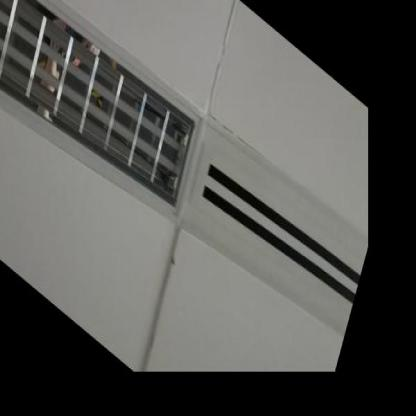light_off: (0, 0, 219, 285)
